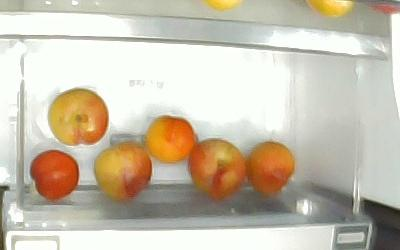prune: (47, 87, 109, 147), (94, 140, 153, 199), (187, 138, 243, 198), (245, 140, 294, 194), (30, 149, 80, 199), (144, 115, 195, 164)
